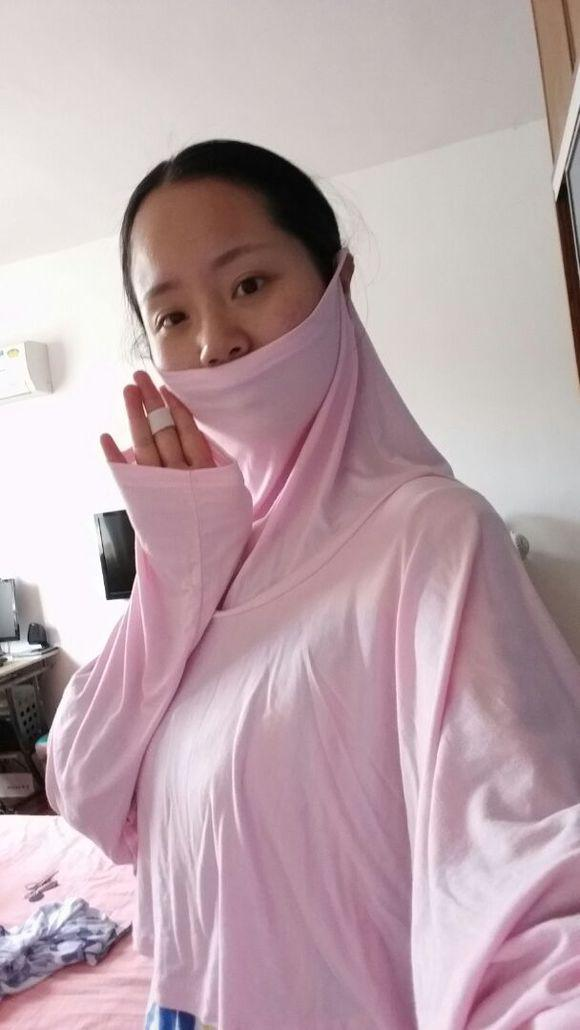WRONG: (141, 239, 333, 453)
